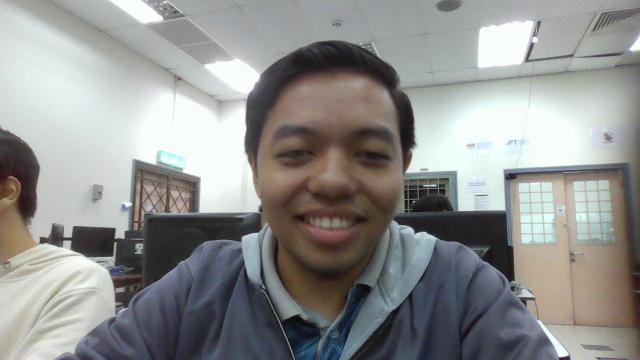senang: (249, 67, 405, 279)
